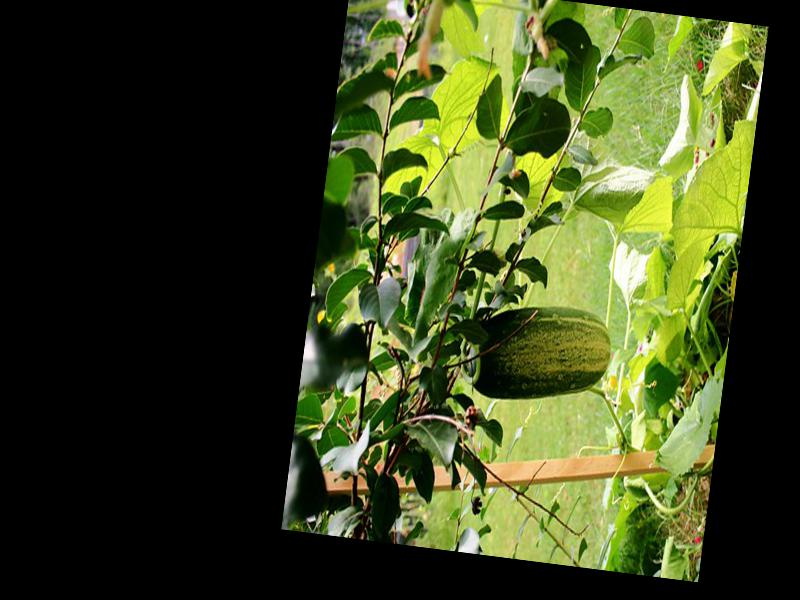Cucumber: (456, 297, 616, 414)
